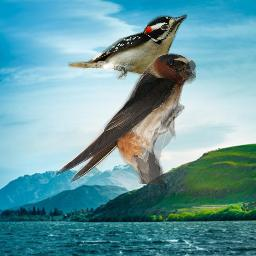Swallow: (54, 53, 196, 184)
Woodpecker: (68, 12, 187, 80)
